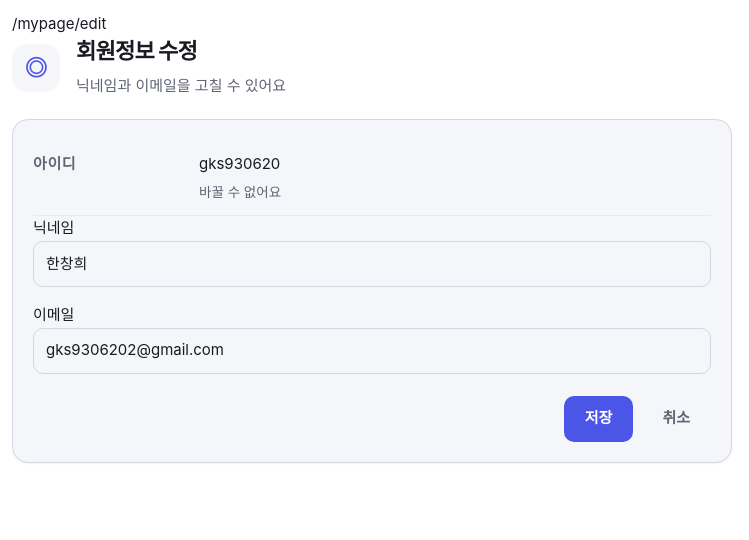
Test case: 회원정보 수정 — 저장 (AC-A-06·10·13) › 이메일 중복(409)이면 안내가 보이고 입력값이 그대로 남는다
Replace the text in the field labelled "이메일" with "taken@example.com": [372, 351] box [33,328,711,374]
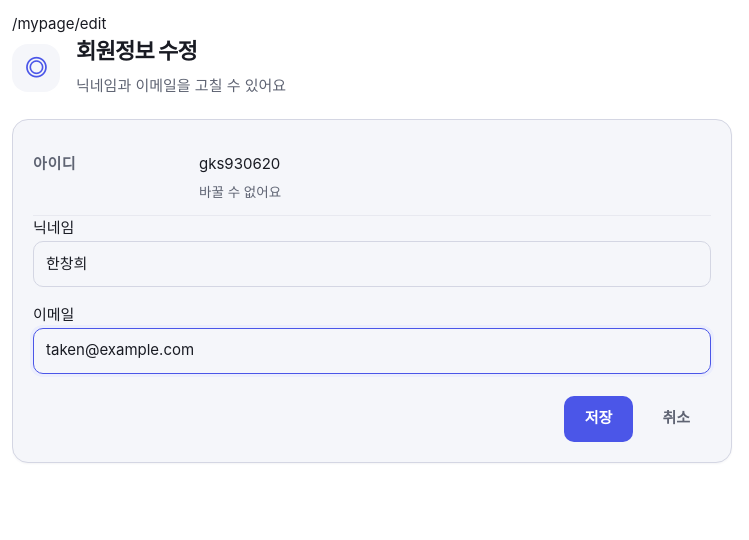
Click the button "저장": [599, 419] box [564,396,633,442]
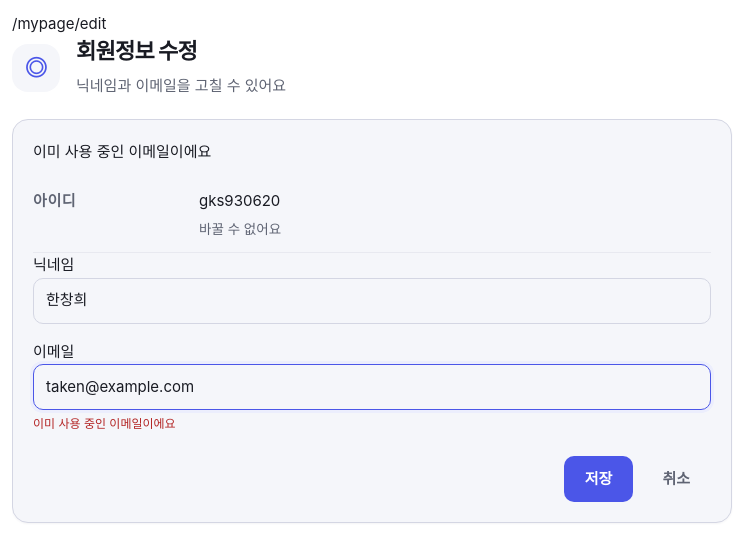
Expected: the text with test id "location" reads "/mypage/edit", [12,14,106,33]
Now the message "이미 사용 중인 이메일이에요" is shown, box [33,142,211,161]
